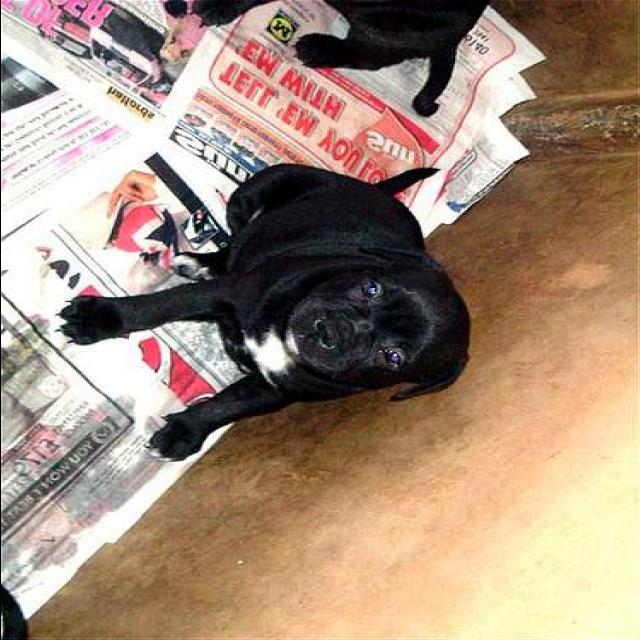staffordshire_bullterrier: (46, 160, 472, 464)
